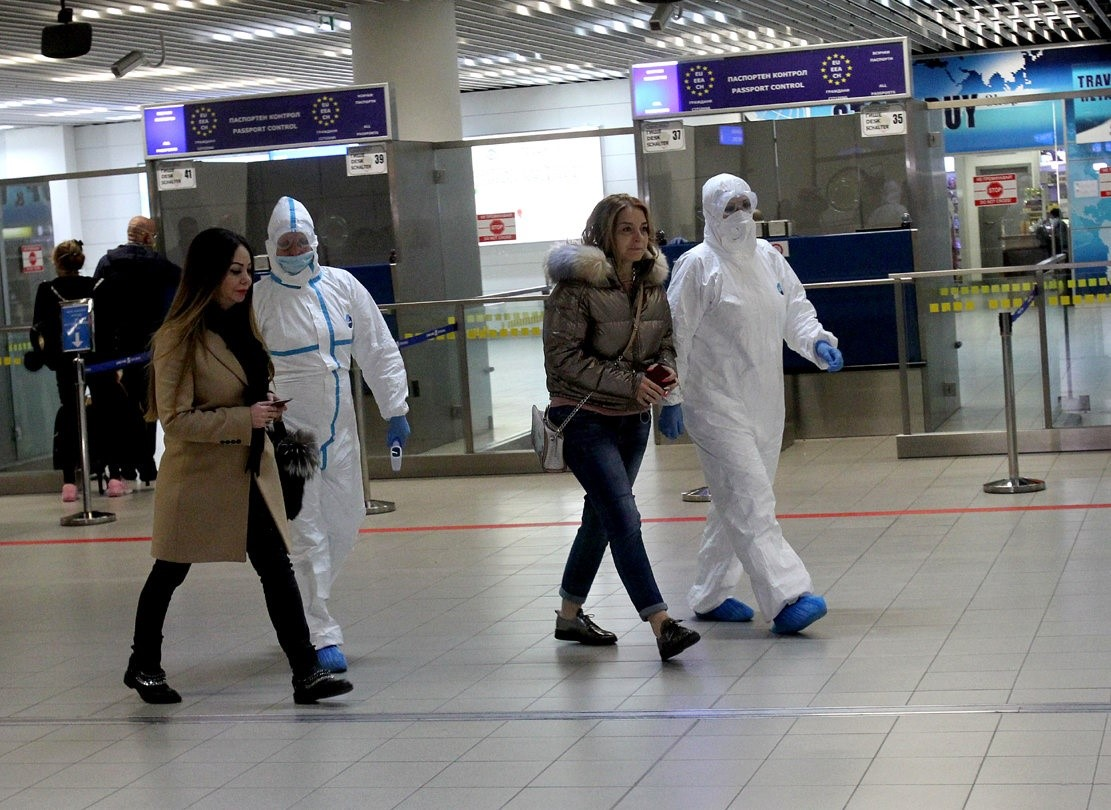face_no_mask: (190, 227, 262, 320), (590, 194, 655, 275)
face_with_mask: (695, 162, 770, 271), (258, 193, 324, 292)
